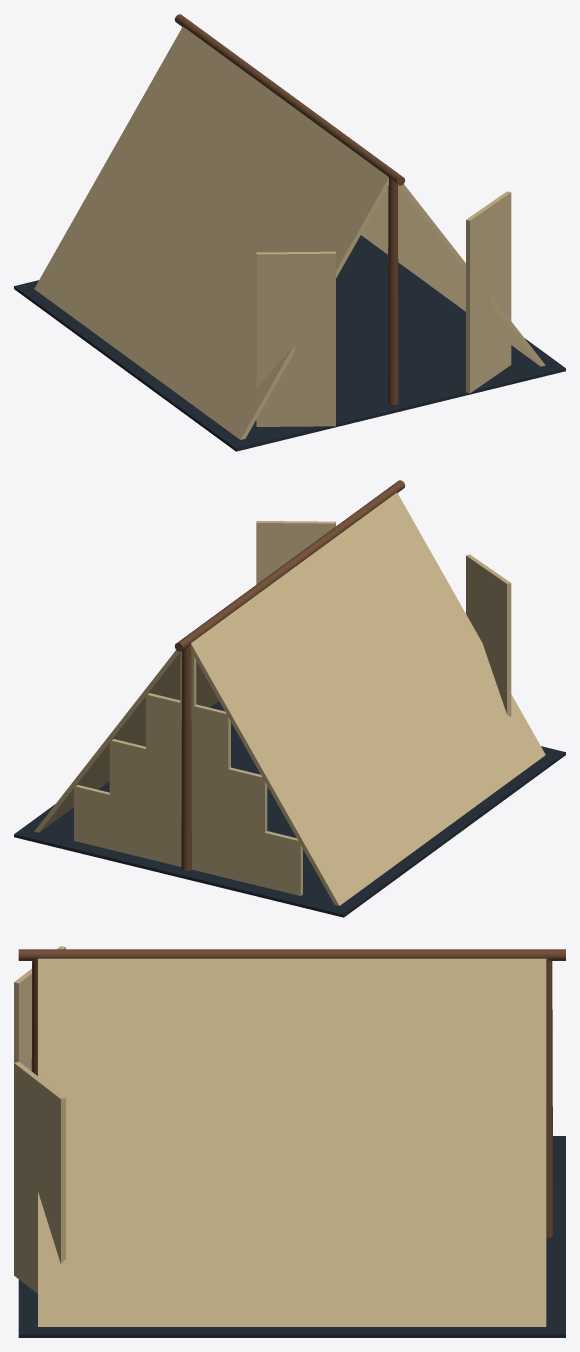
File: canvas-tent-lod0.glb
3 renders of one model, top to bottom at view 1: azimuth 30°, elevation 25°; view 2: azimuth 150°, elevation 25°; view 3: azimuth 270°, elevation 25°, orthographic. The views are drawn at different scales.
Parts seen in each view (by area): view 1: panel (×2), groundsheet, flap (×2), ridge, pole; view 2: panel (×2), back-panel-0, groundsheet, back-panel-1, flap (×2), back-panel-2, ridge, pole; view 3: panel, flap (×2), groundsheet, ridge, pole (×2).
Part boxes in pixels (x1,y1,x2,y2): panel (×2): (34,26,545,439); groundsheet: (14,235,565,451); flap (×2): (256,191,511,426); ridge: (174,14,405,185); pole: (387,177,398,404); panel (×2): (34,492,545,905); back-panel-0: (74,785,302,895); groundsheet: (14,701,565,917); back-panel-1: (109,739,267,832); flap (×2): (256,521,511,716); back-panel-2: (146,693,230,768); ridge: (174,480,405,651); pole: (181,643,191,870); panel: (38,958,546,1326); flap (×2): (14,946,65,1293); groundsheet: (18,1136,565,1337); ridge: (18,949,565,960); pole (×2): (31,958,553,1237).
Bounding box in the file's own units: 2.4 × 1.63 × 2.82.
